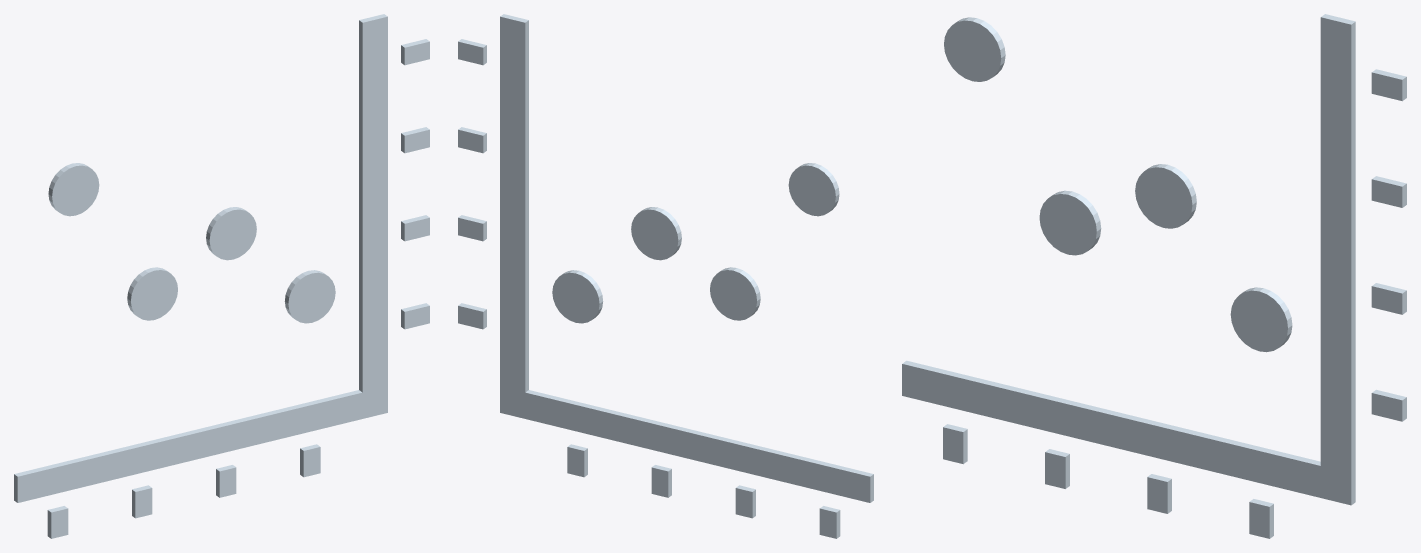
File: Chart_3D_Icon_04.fbx
The picture shows the model from 3 angles, left to right: view 1: azimuth 30°, elevation 25°; view 2: azimuth 150°, elevation 25°; view 3: azimuth 330°, elevation 25°; orthographic projection. The views are drawn at different scales.
Parts seen in each view (by area): view 1: Chart_3D_Icon_04; view 2: Chart_3D_Icon_04; view 3: Chart_3D_Icon_04.
Boxes of the visible parts, x1,y1,x2,y2 form: Chart_3D_Icon_04: (14, 14, 429, 538); Chart_3D_Icon_04: (458, 14, 873, 538); Chart_3D_Icon_04: (902, 14, 1406, 538).
Bounding box in the file's own units: 131 × 134 × 2.
